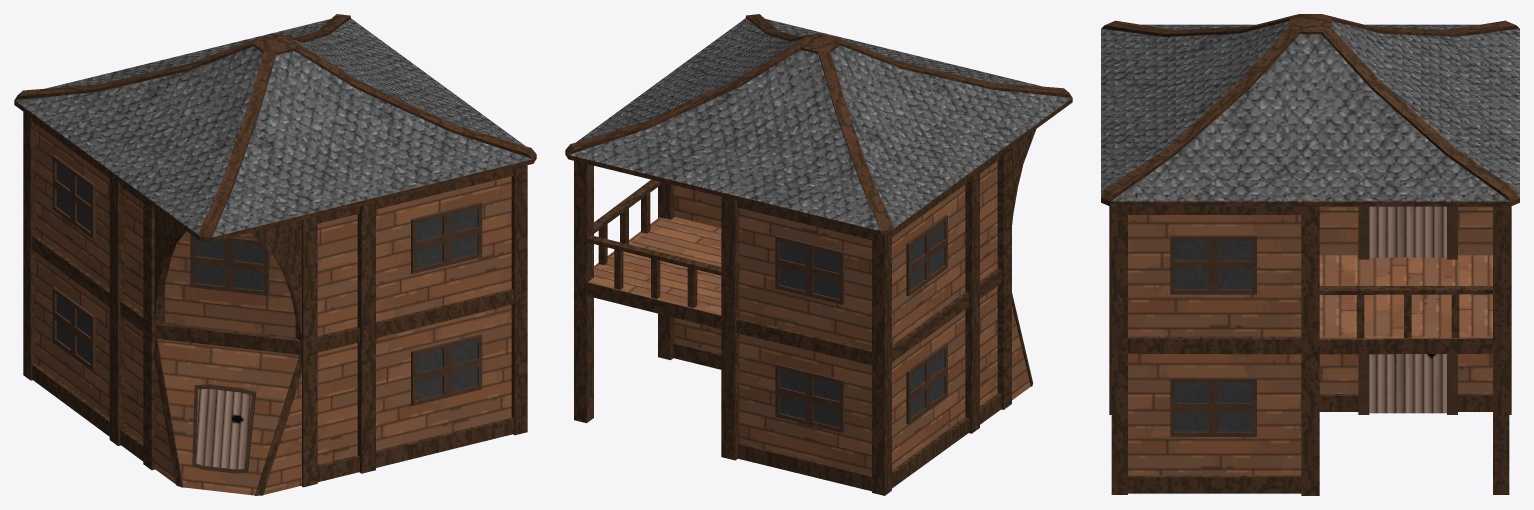
Rendered from L1_Village_house3.fbx.
3 renders of one model, left to right at view 1: azimuth 30°, elevation 25°; view 2: azimuth 150°, elevation 25°; view 3: azimuth 270°, elevation 25°, orthographic. The views are drawn at different scales.
Visible parts, largest first — view 1: L1_Vilage_house3; view 2: L1_Vilage_house3; view 3: L1_Vilage_house3.
Part boxes in pixels (x1=…): L1_Vilage_house3: x1=14, y1=14, x2=536, y2=495; L1_Vilage_house3: x1=565, y1=14, x2=1072, y2=495; L1_Vilage_house3: x1=1101, y1=14, x2=1519, y2=495.
Size of the model in its own units: 549 by 562 by 549.
